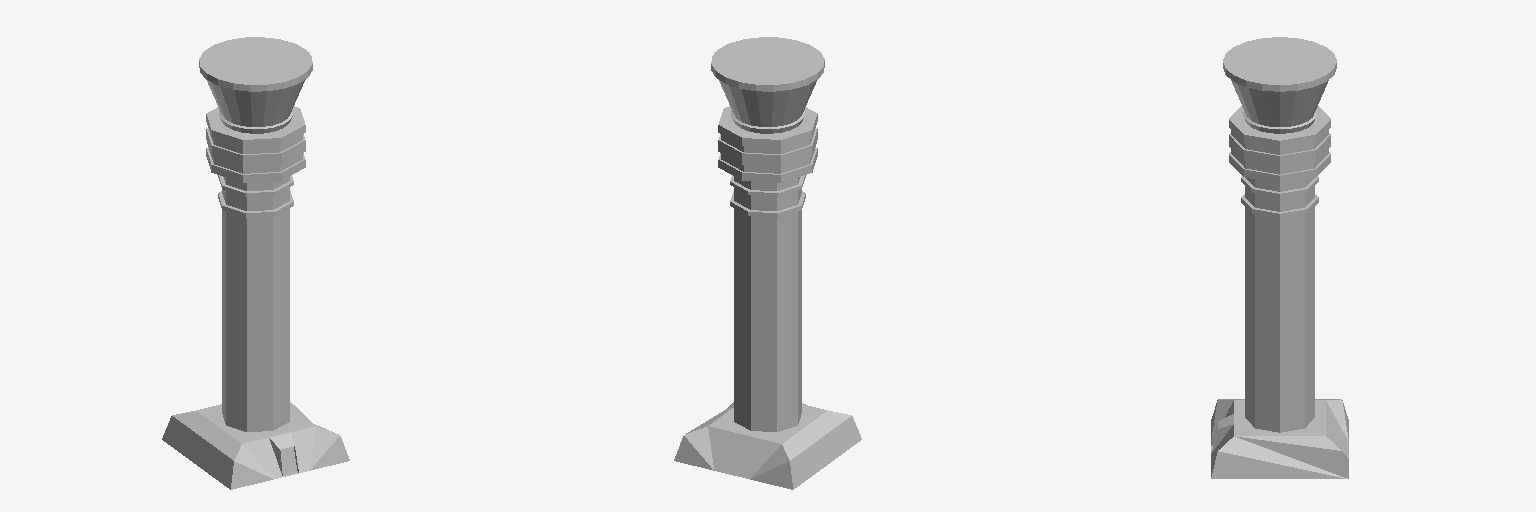
File: ControlTower.obj
3 renders of one model, left to right at view 1: azimuth 30°, elevation 25°; view 2: azimuth 150°, elevation 25°; view 3: azimuth 270°, elevation 25°, orthographic.
Parts seen in each view (by area): view 1: pCube3; view 2: pCube3; view 3: pCube3.
Part boxes in pixels (x1,y1,x2,y2): pCube3: (162,37,349,489); pCube3: (674,37,861,489); pCube3: (1211,37,1348,478).
Bounding box in the file's own units: 19.9 × 61.95 × 19.9.